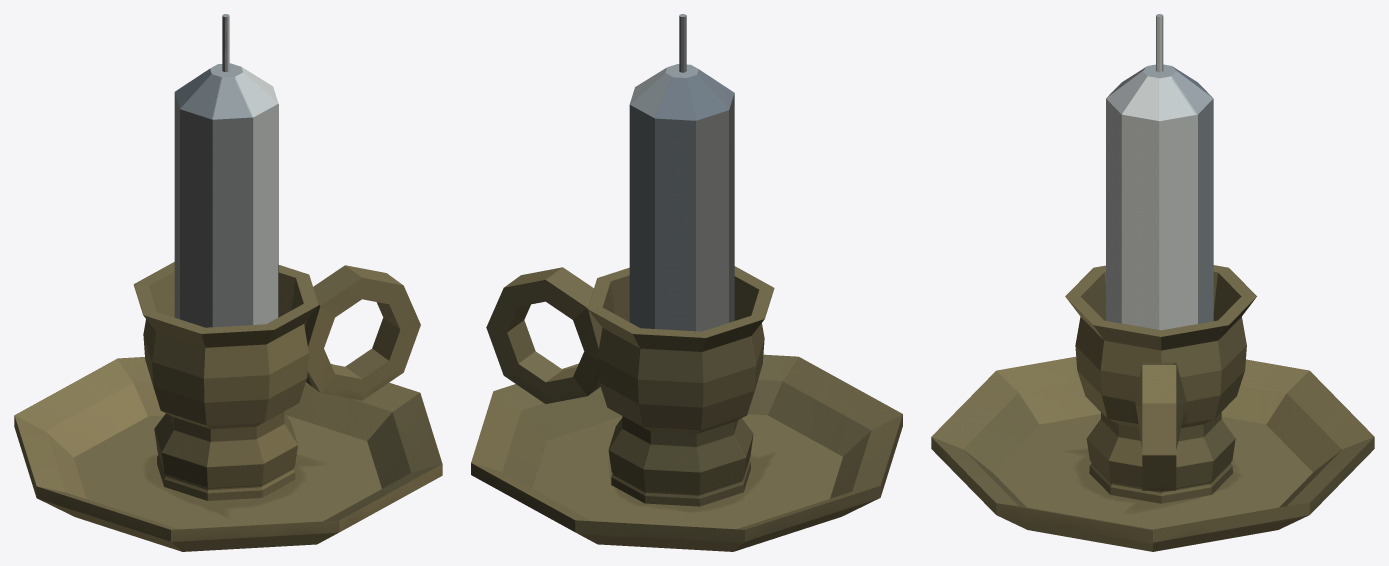
File: vela.fbx
3 renders of one model, left to right at view 1: azimuth 30°, elevation 25°; view 2: azimuth 150°, elevation 25°; view 3: azimuth 270°, elevation 25°, orthographic.
Parts seen in each view (by area): view 1: Prato, fio da vela; view 2: Prato, fio da vela; view 3: Prato, fio da vela.
Part boxes in pixels (box(x1,y1,x2,y2)): Prato: box(14, 262, 442, 551); fio da vela: box(174, 14, 278, 327); Prato: box(471, 266, 902, 551); fio da vela: box(629, 14, 734, 331); Prato: box(931, 265, 1374, 551); fio da vela: box(1106, 14, 1213, 330).
Bounding box in the file's own units: 201 × 231 × 201.
Materials: 2 (2 with a texture image).
